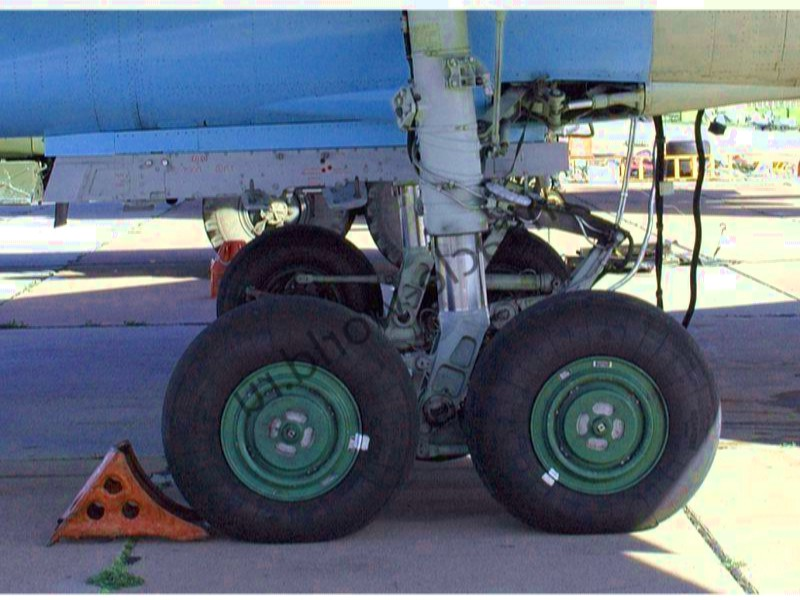chock: (44, 436, 211, 545)
wheel: (462, 285, 724, 534), (159, 290, 416, 543), (215, 223, 383, 317), (480, 223, 576, 301)
